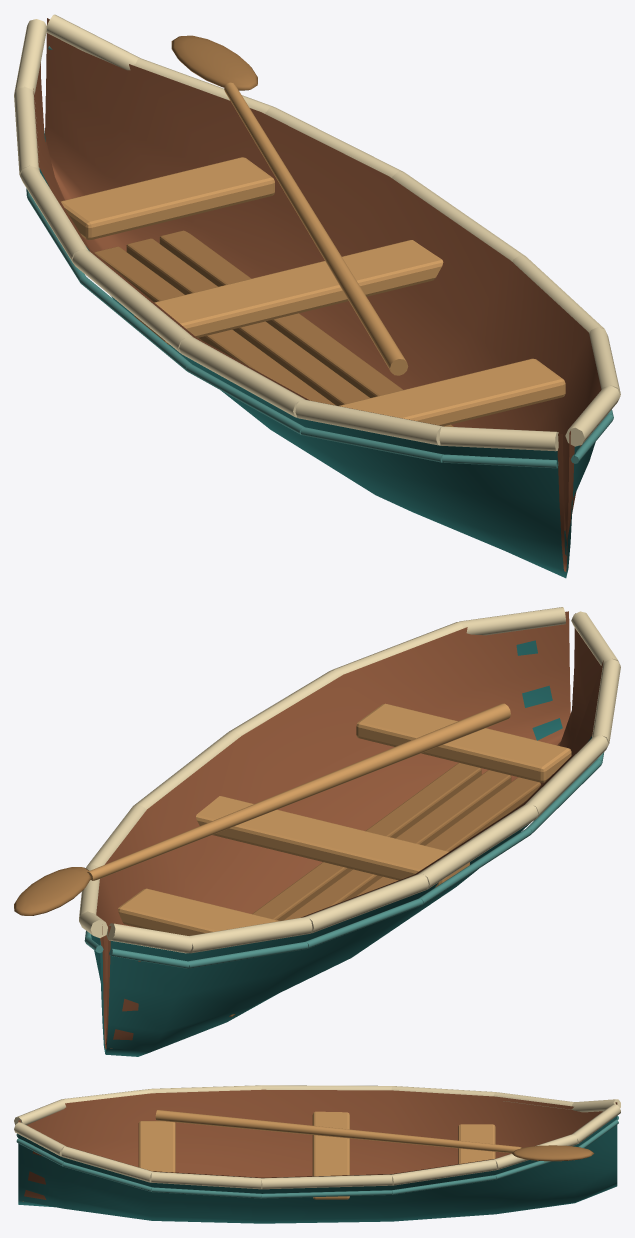
The model's file is CedarSkiff.fbx.
3 views of the same model, one above another, from view 1: azimuth 30°, elevation 25°; view 2: azimuth 150°, elevation 25°; view 3: azimuth 270°, elevation 25° (orthographic). The views are drawn at different scales.
Visible parts, largest first — view 1: Cedar skiff inside, Cedar skiff outer hull, Skiff slat seat.001, Skiff slat seat.002, Skiff slat seat, Skiff floor slat.002, Skiff floor slat.001, Oar shaft, Skiff floor slat, Ivory gunwale 2, Ivory gunwale 4, Oar paddle (+16 smaller); view 2: Cedar skiff inside, Cedar skiff outer hull, Skiff slat seat.001, Skiff slat seat, Oar shaft, Skiff floor slat.002, Skiff floor slat.001, Skiff slat seat.002, Skiff floor slat, Ivory gunwale 4, Oar paddle, Ivory gunwale 5 (+15 smaller); view 3: Cedar skiff inside, Cedar skiff outer hull, Oar shaft, Skiff slat seat.001, Skiff slat seat, Ivory gunwale 4.001, Ivory gunwale 3.001, Ivory gunwale 5.001, Skiff slat seat.002, Ivory gunwale 2.001, Oar paddle, Painted rub rail 4.001 (+16 smaller).
Boxes of the visible parts, x1=… form: Cedar skiff inside: x1=33, y1=18, x2=601, y2=571; Cedar skiff outer hull: x1=39, y1=128, x2=595, y2=578; Skiff slat seat.001: x1=134, y1=240, x2=443, y2=344; Skiff slat seat.002: x1=60, y1=157, x2=274, y2=239; Skiff slat seat: x1=339, y1=358, x2=565, y2=426; Skiff floor slat.002: x1=159, y1=230, x2=453, y2=426; Skiff floor slat.001: x1=126, y1=238, x2=369, y2=405; Oar shaft: x1=224, y1=82, x2=408, y2=375; Skiff floor slat: x1=94, y1=246, x2=335, y2=405; Ivory gunwale 2: x1=295, y1=399, x2=443, y2=445; Ivory gunwale 4: x1=72, y1=249, x2=192, y2=353; Oar paddle: x1=171, y1=35, x2=257, y2=90; Cedar skiff inside: x1=96, y1=611, x2=603, y2=1049; Cedar skiff outer hull: x1=91, y1=640, x2=591, y2=1056; Skiff slat seat.001: x1=196, y1=796, x2=469, y2=887; Skiff slat seat: x1=356, y1=703, x2=571, y2=782; Oar shaft: x1=87, y1=703, x2=510, y2=880; Skiff floor slat.002: x1=252, y1=763, x2=481, y2=920; Skiff floor slat.001: x1=283, y1=770, x2=511, y2=920; Skiff slat seat.002: x1=118, y1=888, x2=279, y2=935; Skiff floor slat: x1=229, y1=777, x2=540, y2=1016; Ivory gunwale 4: x1=418, y1=803, x2=538, y2=889; Oar paddle: x1=14, y1=867, x2=91, y2=915; Ivory gunwale 5: x1=305, y1=873, x2=428, y2=933; Cedar skiff inside: x1=18, y1=1089, x2=617, y2=1201; Cedar skiff outer hull: x1=18, y1=1116, x2=617, y2=1223; Oar shaft: x1=155, y1=1110, x2=521, y2=1153; Skiff slat seat.001: x1=312, y1=1111, x2=349, y2=1199; Skiff slat seat: x1=138, y1=1121, x2=175, y2=1172; Ivory gunwale 4.001: x1=262, y1=1174, x2=392, y2=1189; Ivory gunwale 3.001: x1=151, y1=1171, x2=261, y2=1189; Ivory gunwale 5.001: x1=392, y1=1159, x2=496, y2=1185; Skiff slat seat.002: x1=458, y1=1124, x2=495, y2=1164; Ivory gunwale 2.001: x1=61, y1=1146, x2=152, y2=1182; Oar paddle: x1=512, y1=1145, x2=594, y2=1161; Painted rub rail 4.001: x1=262, y1=1190, x2=392, y2=1198.
Bounding box in the file's own units: 1.37 × 0.7531 × 3.59.
